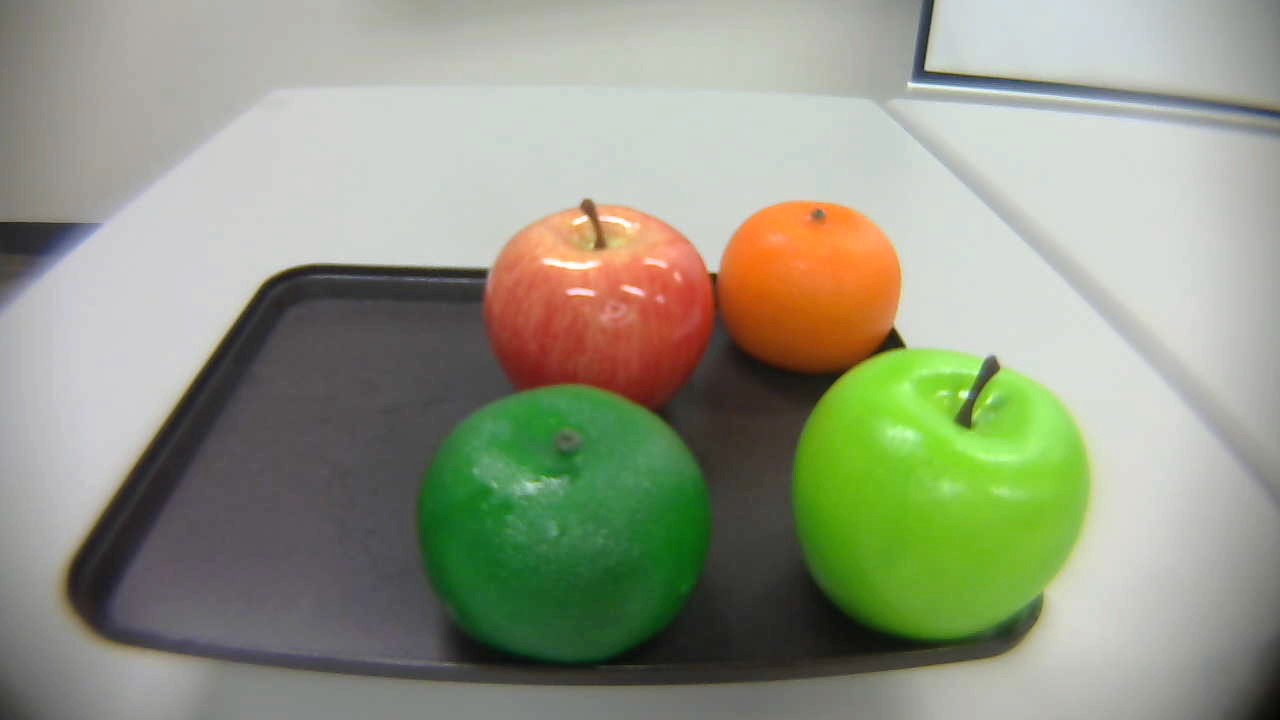green apple: (789, 340, 1099, 645)
green orange: (415, 381, 708, 678)
orange: (718, 200, 904, 380)
red apple: (464, 188, 723, 408)
